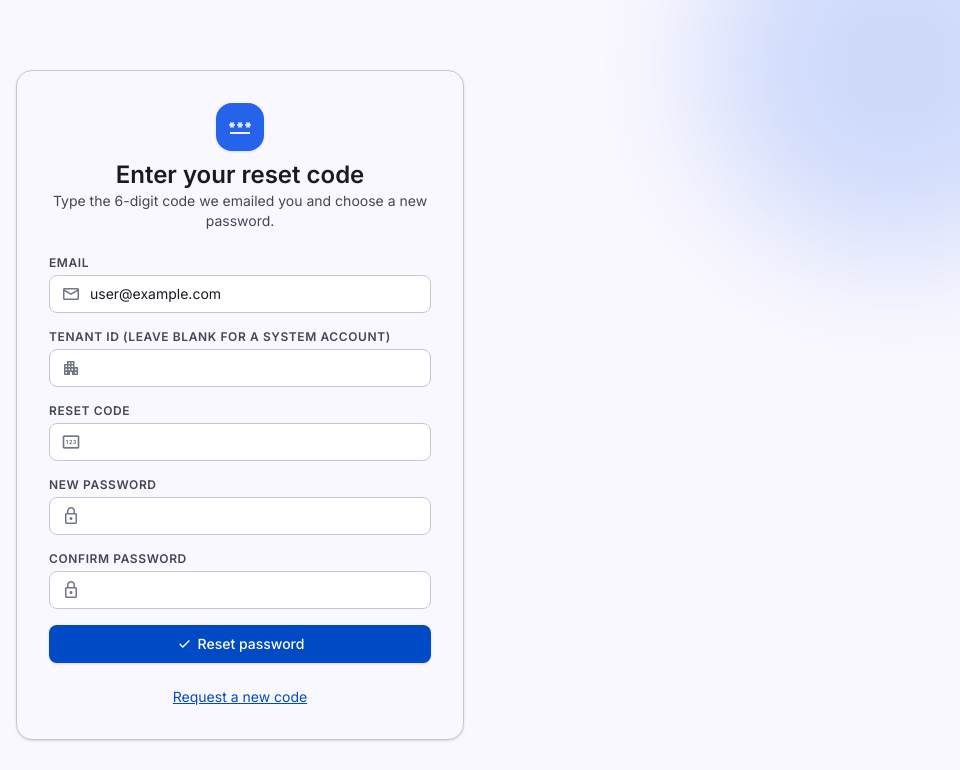
Test: ResetPasswordPage › requires the code before submitting
Type "Str0ng!Passphrase" into the password field labelled "New password".
click(240, 516); type("Str0ng!Passphrase")  # box [49, 497, 431, 535]
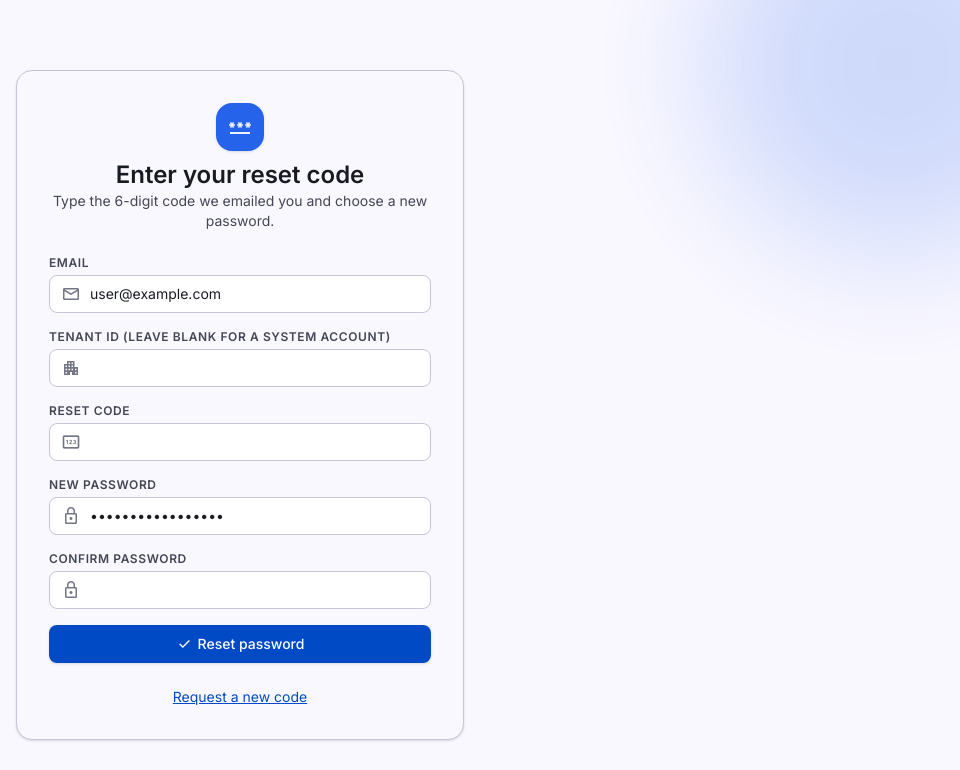
Type "Str0ng!Passphrase" into the password field labelled "Confirm password".
click(240, 590); type("Str0ng!Passphrase")  # box [49, 571, 431, 609]
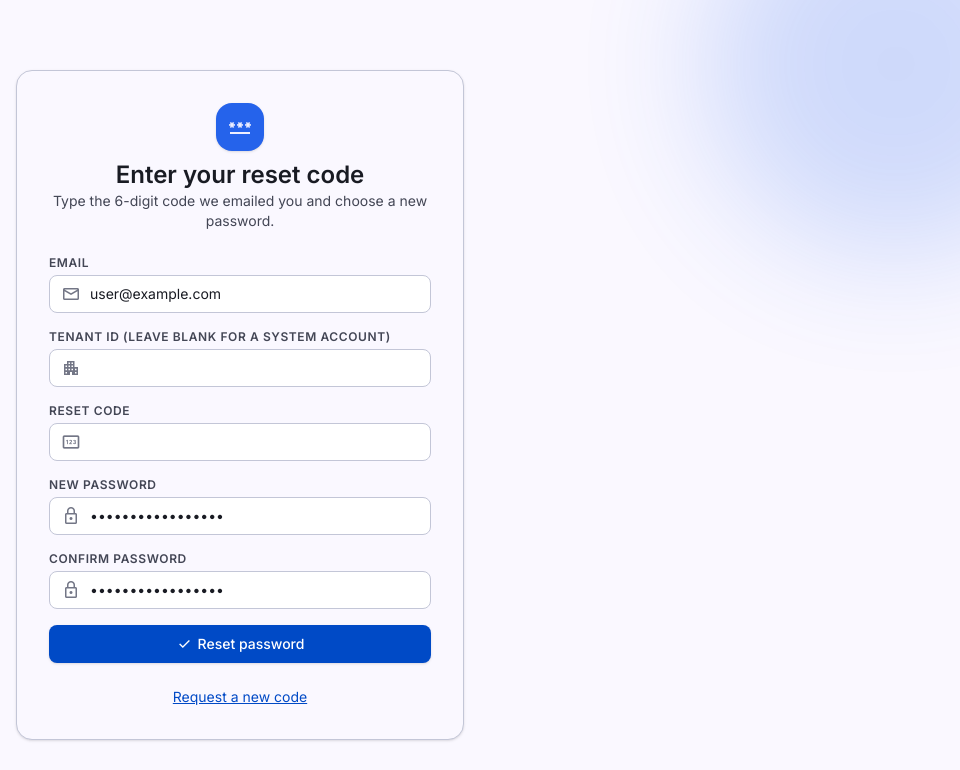
Click the button "Reset password".
click(240, 644)  # box [49, 625, 431, 663]
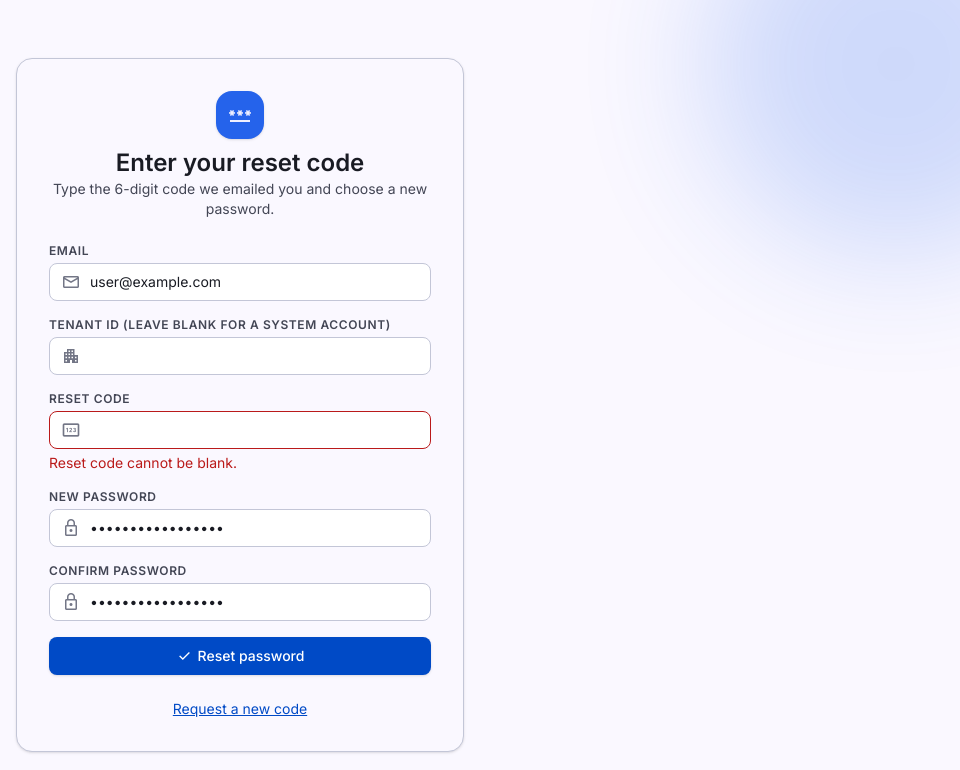
Expected: the text "Reset code cannot be blank." is shown, [49, 454, 237, 471]
